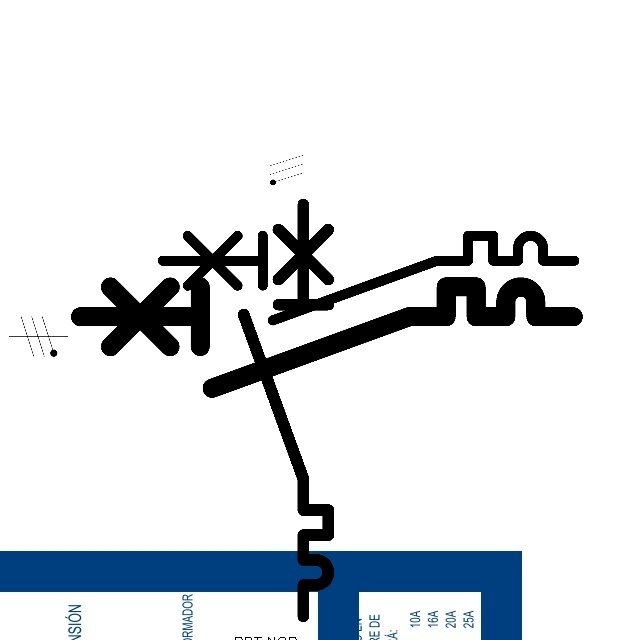interruptor_termomagnetico: (67, 274, 585, 401), (152, 225, 585, 331), (233, 194, 339, 627)
